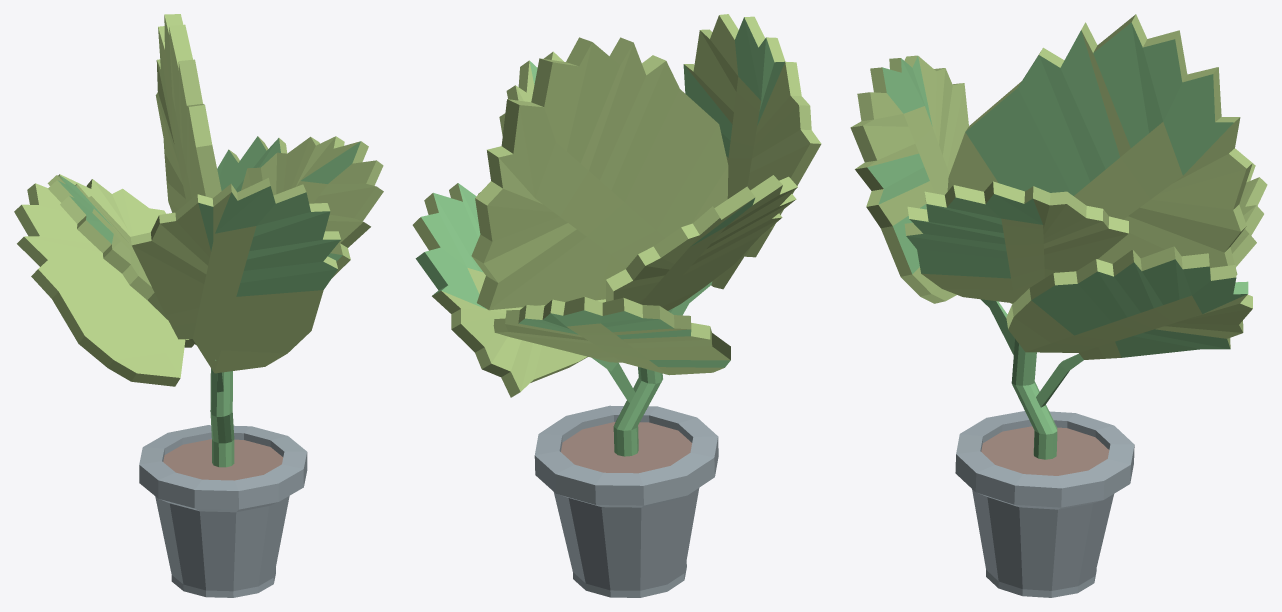
File: SpikyPalmPotPlant.fbx
3 views of the same model, side by side, from view 1: azimuth 30°, elevation 25°; view 2: azimuth 150°, elevation 25°; view 3: azimuth 270°, elevation 25° (orthographic). The views are drawn at different scales.
Visible parts, largest first — view 1: polySurface567; view 2: polySurface567; view 3: polySurface567.
Boxes of the visible parts, box(x1,y1,x2,y2) form: polySurface567: box(14, 14, 383, 597); polySurface567: box(412, 14, 821, 597); polySurface567: box(850, 14, 1267, 597).
Bounding box in the file's own units: 0.2857 × 0.5147 × 0.3501.
